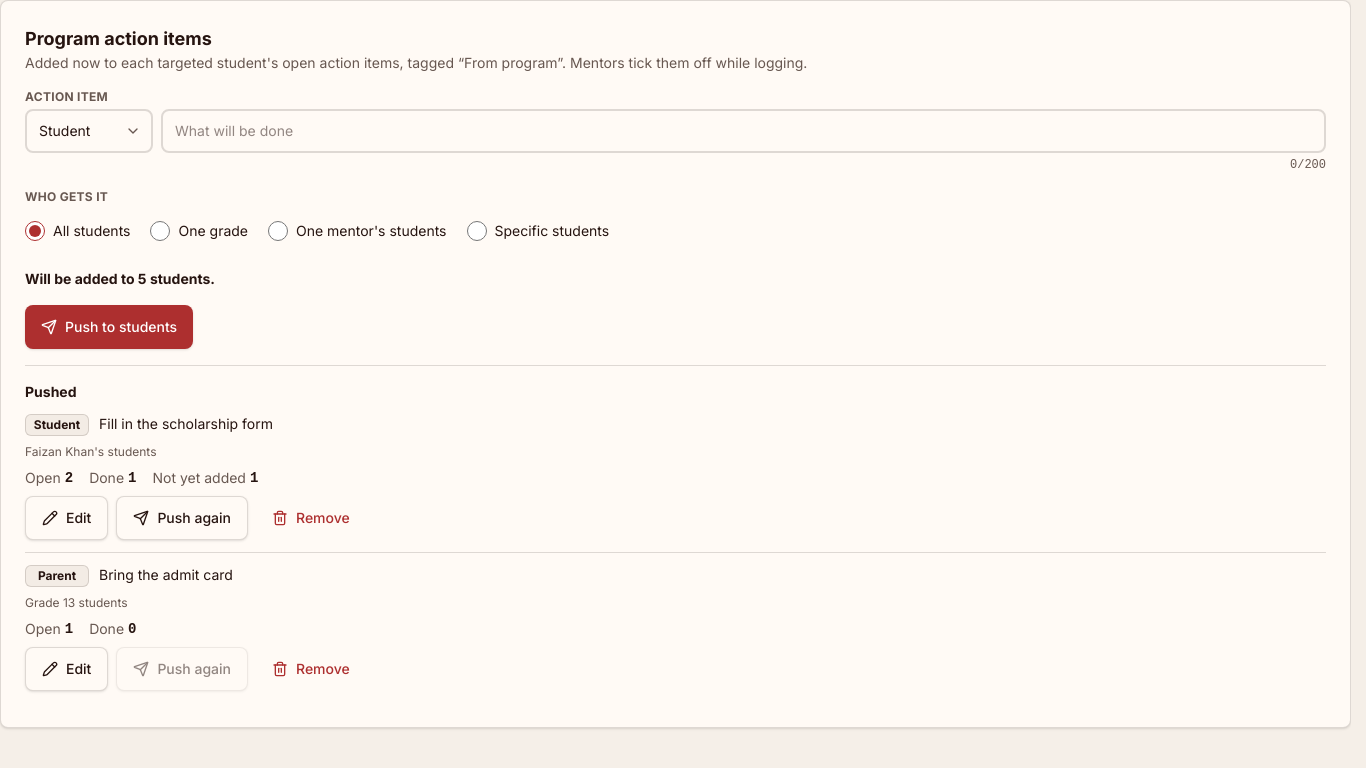
Test: CommonActionItemsManager — pushed items › removes after confirming what is deleted and kept, and shows a failure in the dialog
This screenshot has width=1366, height=768.
Click the button with aria-label "Remove: Fill in the scholarship form" at (311, 518), box [256,496,366,540]
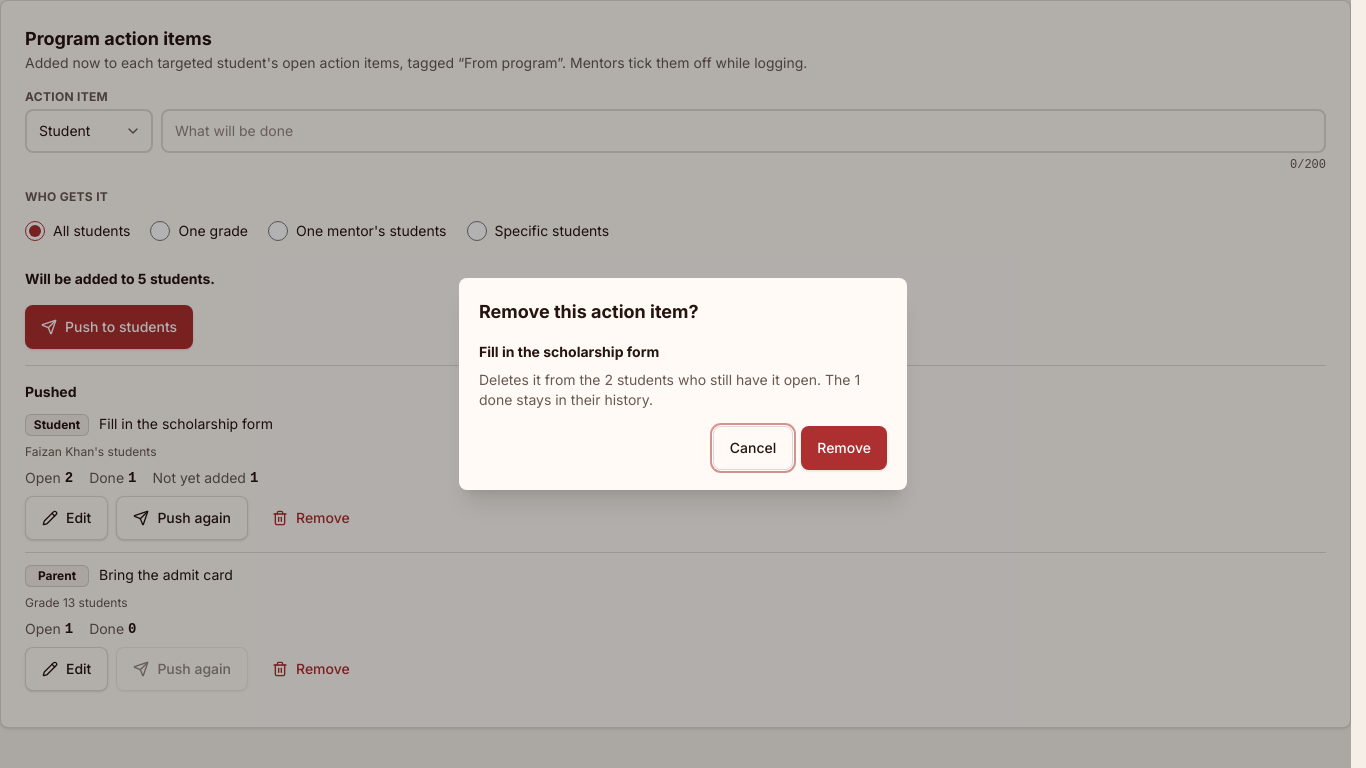
Expected: the dialog "Remove this action item?" shows "Deletes it from the 2 students who still have it open. The 1 done stays in their history."
Click the button "Remove" at (844, 448), box [801,426,887,470]
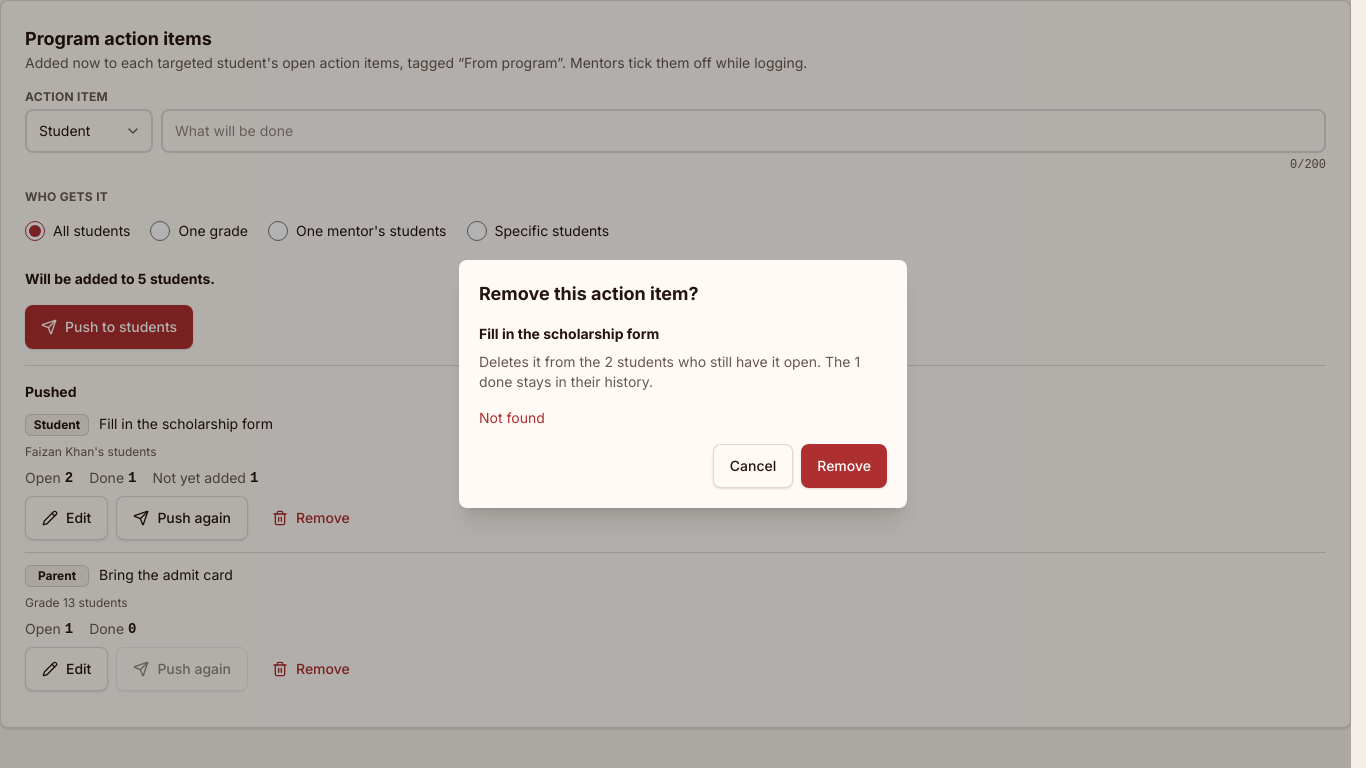
Expected: the message reads "Not found", [479,409,545,426]
Click the button "Cancel" at (753, 466), box [713,444,793,488]
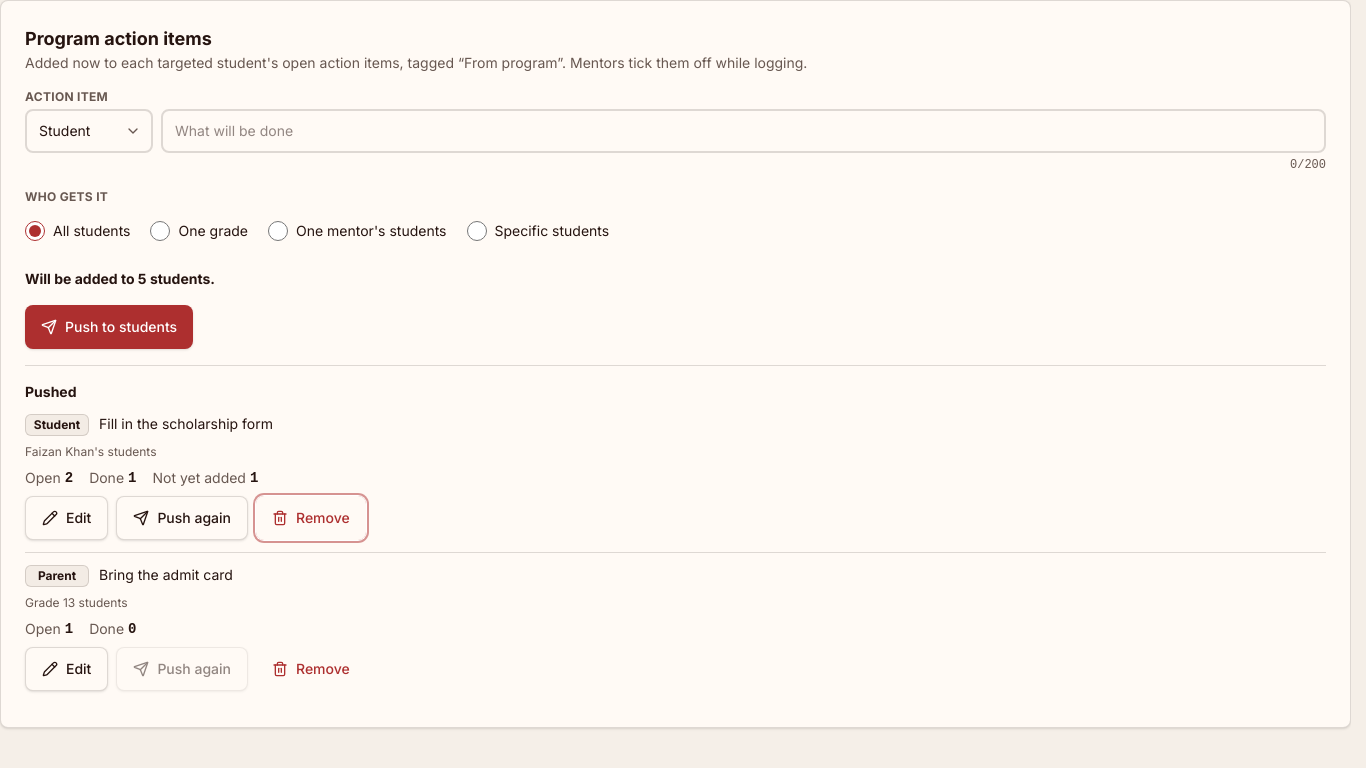
Expected: the dialog is gone
Note: One open, none done: no word about done ones.
Click the button with aria-label "Remove: Bring the admit card" at (311, 669), box [256,647,366,691]
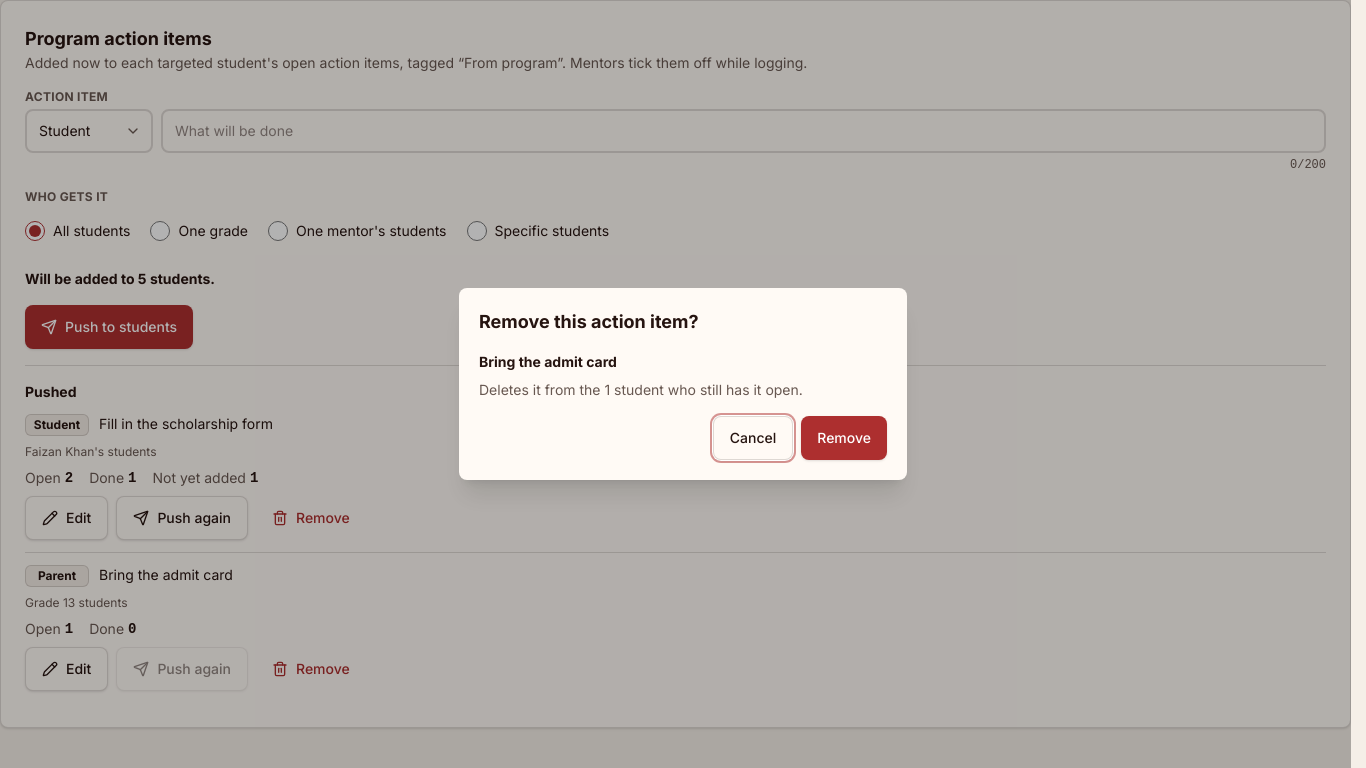
Expected: the dialog "Remove this action item?" shows "Deletes it from the 1 student who still has it open."
